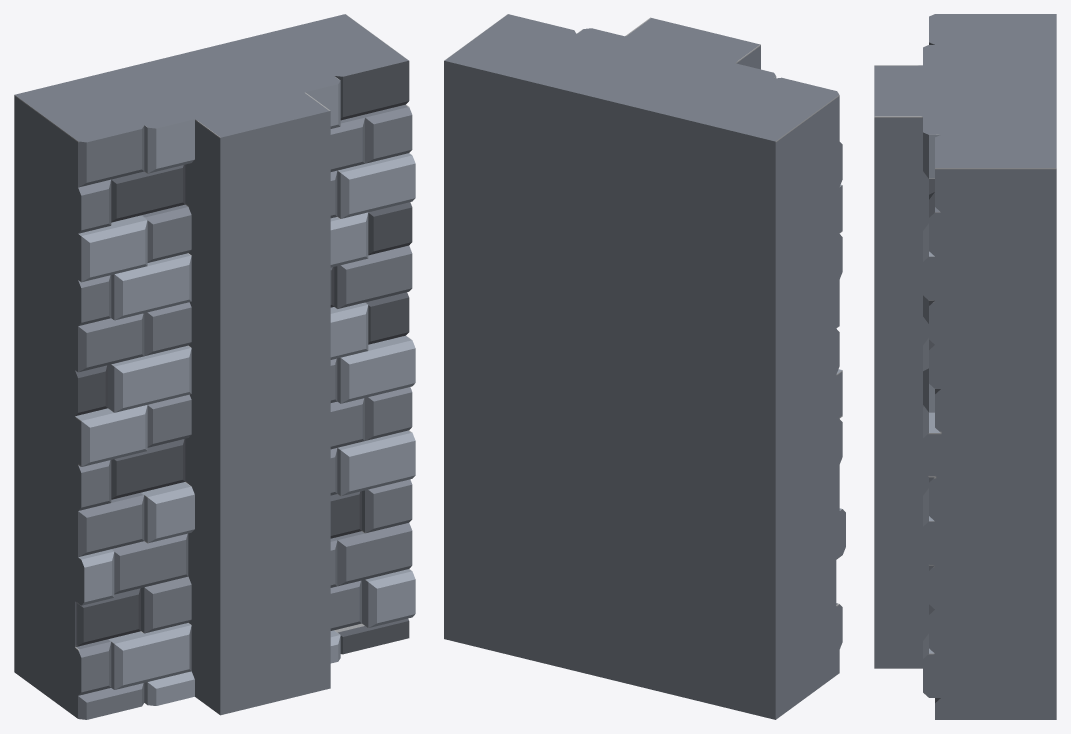
Rendered from HorzFIllerPillar_0.fbx.
The picture shows the model from 3 angles, left to right: view 1: azimuth 30°, elevation 25°; view 2: azimuth 150°, elevation 25°; view 3: azimuth 270°, elevation 25°; orthographic projection. The views are drawn at different scales.
Visible parts, largest first — view 1: HorzFillerPillar2.076; view 2: HorzFillerPillar2.076; view 3: HorzFillerPillar2.076.
Part boxes in pixels (x1,y1,x2,y2): HorzFillerPillar2.076: (14, 14, 415, 719); HorzFillerPillar2.076: (444, 14, 845, 719); HorzFillerPillar2.076: (874, 14, 1056, 719).
Bounding box in the file's own units: 600 × 1000 × 300.
